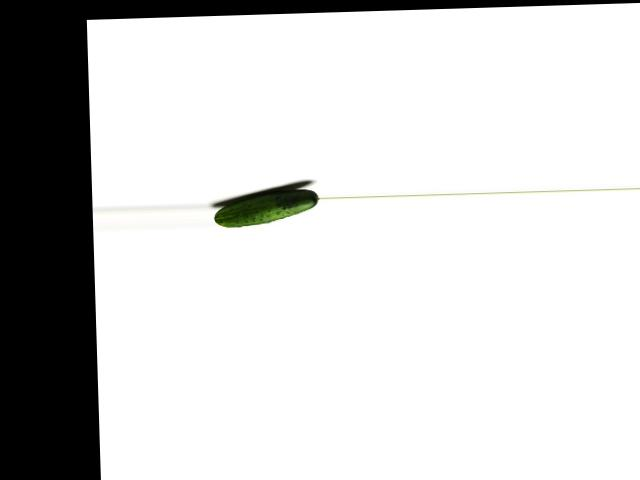cucumber: (214, 187, 320, 227)
